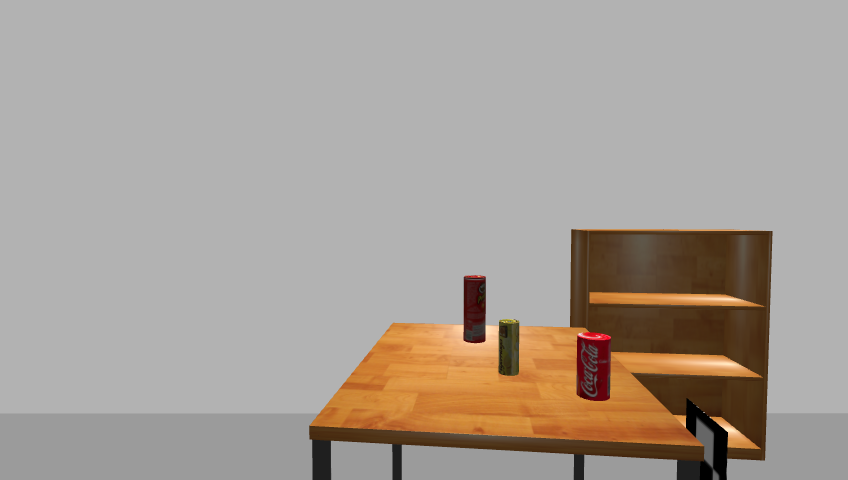aruco marker: (681, 399, 732, 480)
biscuits pack: (498, 319, 521, 378)
bookshelf: (566, 225, 780, 468)
coke can: (575, 332, 613, 401)
dinner table: (304, 322, 704, 479)
pringles can: (460, 274, 488, 345)
